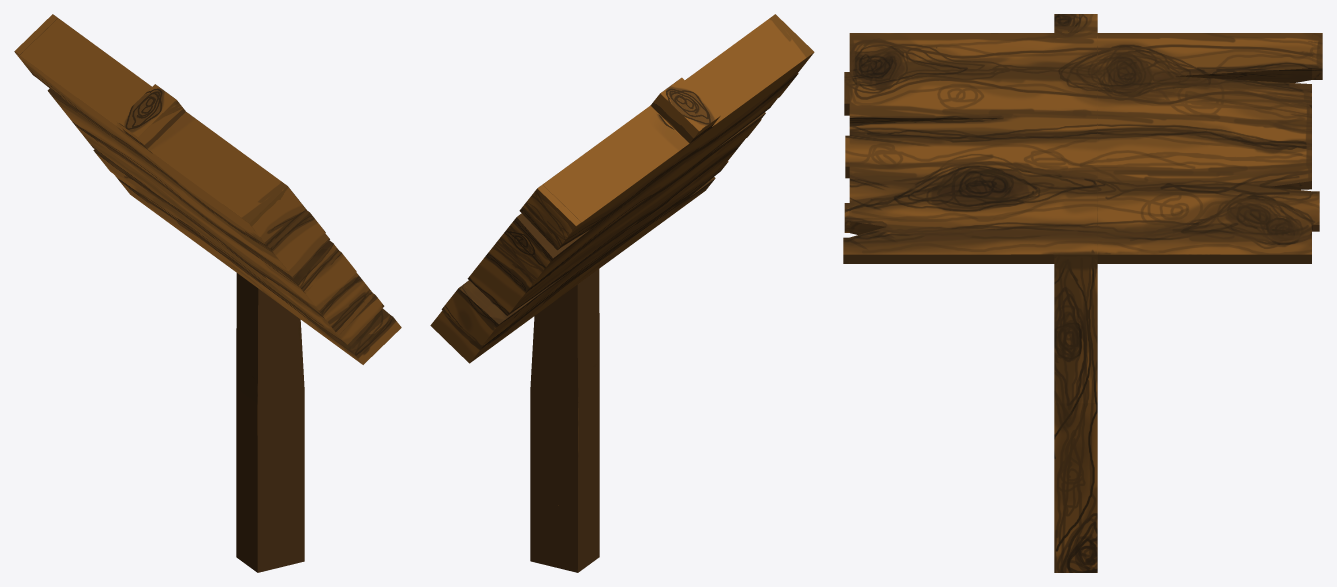
The model's file is sign.fbx.
The picture shows the model from 3 angles, left to right: view 1: azimuth 30°, elevation 25°; view 2: azimuth 150°, elevation 25°; view 3: azimuth 270°, elevation 25°; orthographic projection.
Parts seen in each view (by area): view 1: Cube; view 2: Cube; view 3: Cube.
Boxes of the visible parts, bbox=[...] form: Cube: bbox=[14, 14, 401, 572]; Cube: bbox=[430, 14, 814, 572]; Cube: bbox=[843, 14, 1322, 572].
Bounding box in the file's own units: 207 × 585 × 512.
